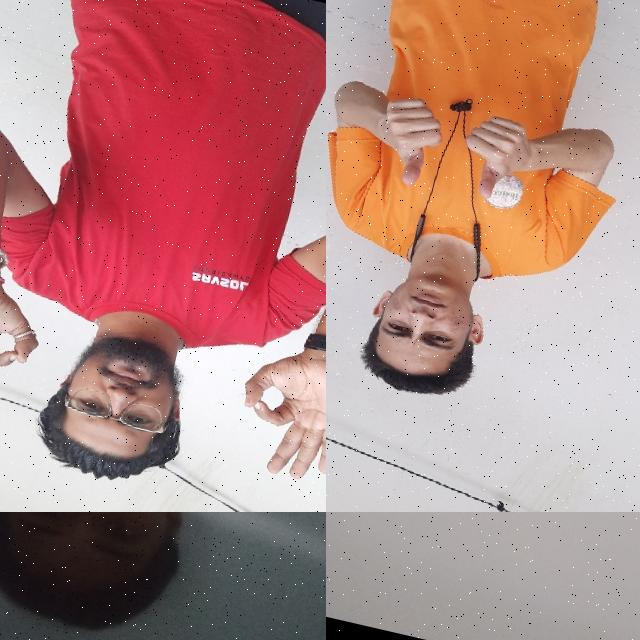Fist Mouth: (0, 512, 239, 636)
Okay: (215, 319, 326, 503), (0, 250, 63, 438)
Thumbs Up: (366, 84, 452, 194), (448, 104, 538, 208)
